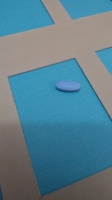Apranax: (55, 80, 82, 93)
